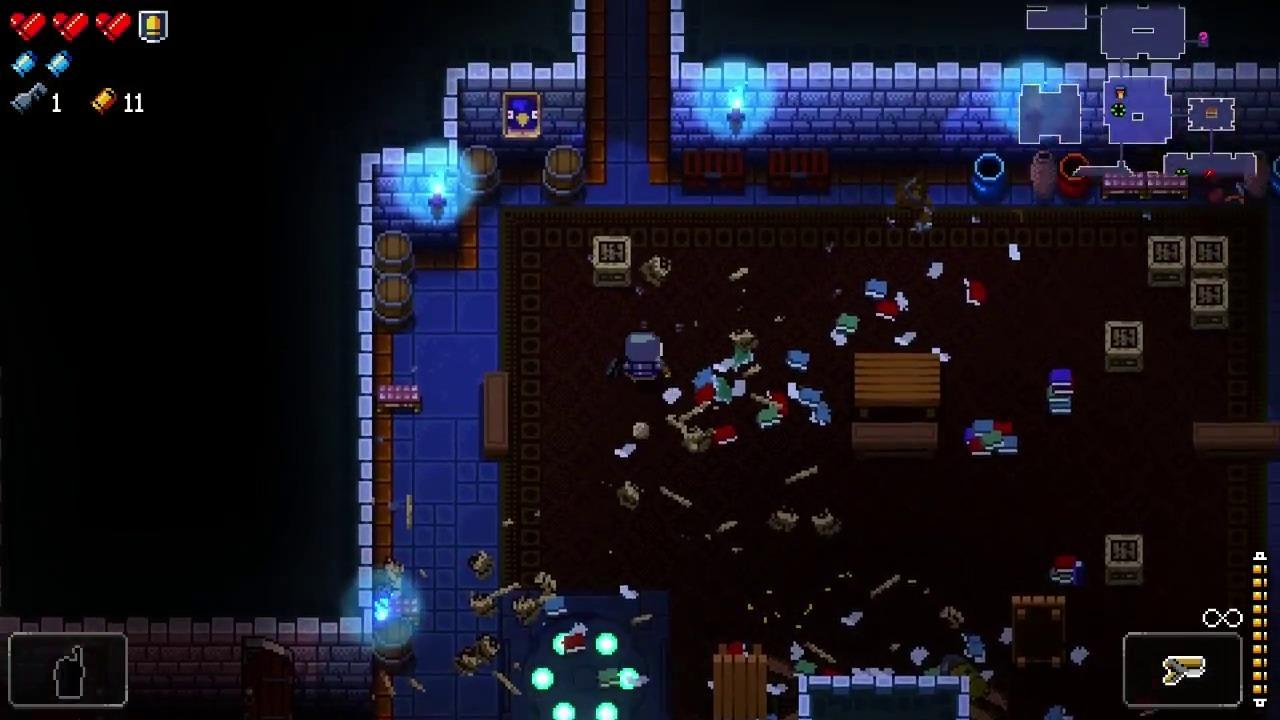player: (624, 331, 662, 386)
table: (854, 354, 940, 419), (712, 642, 767, 720), (1011, 595, 1067, 669)
teleporter: (503, 591, 668, 720)
unlocked_door: (242, 637, 295, 720)
